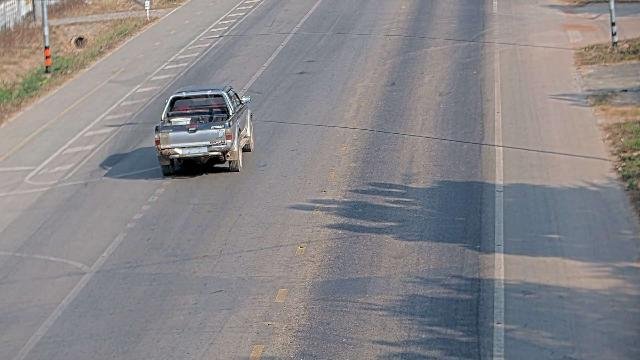pickup-truck: (153, 84, 254, 176)
